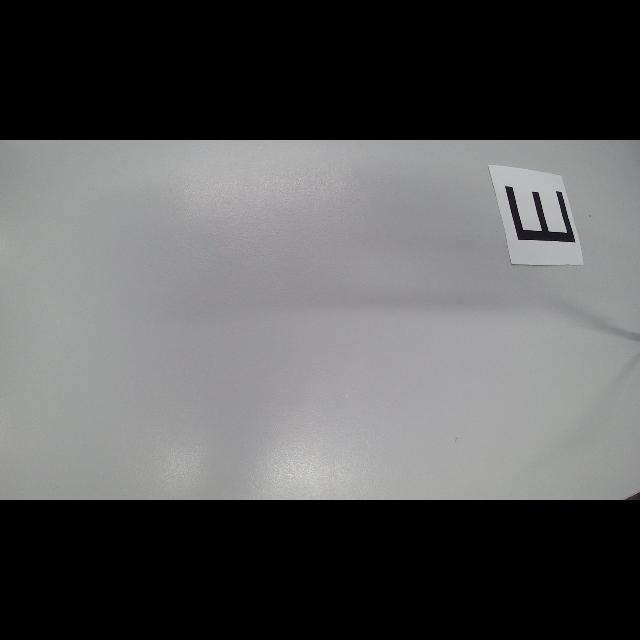FAKE: (504, 186, 576, 244)
